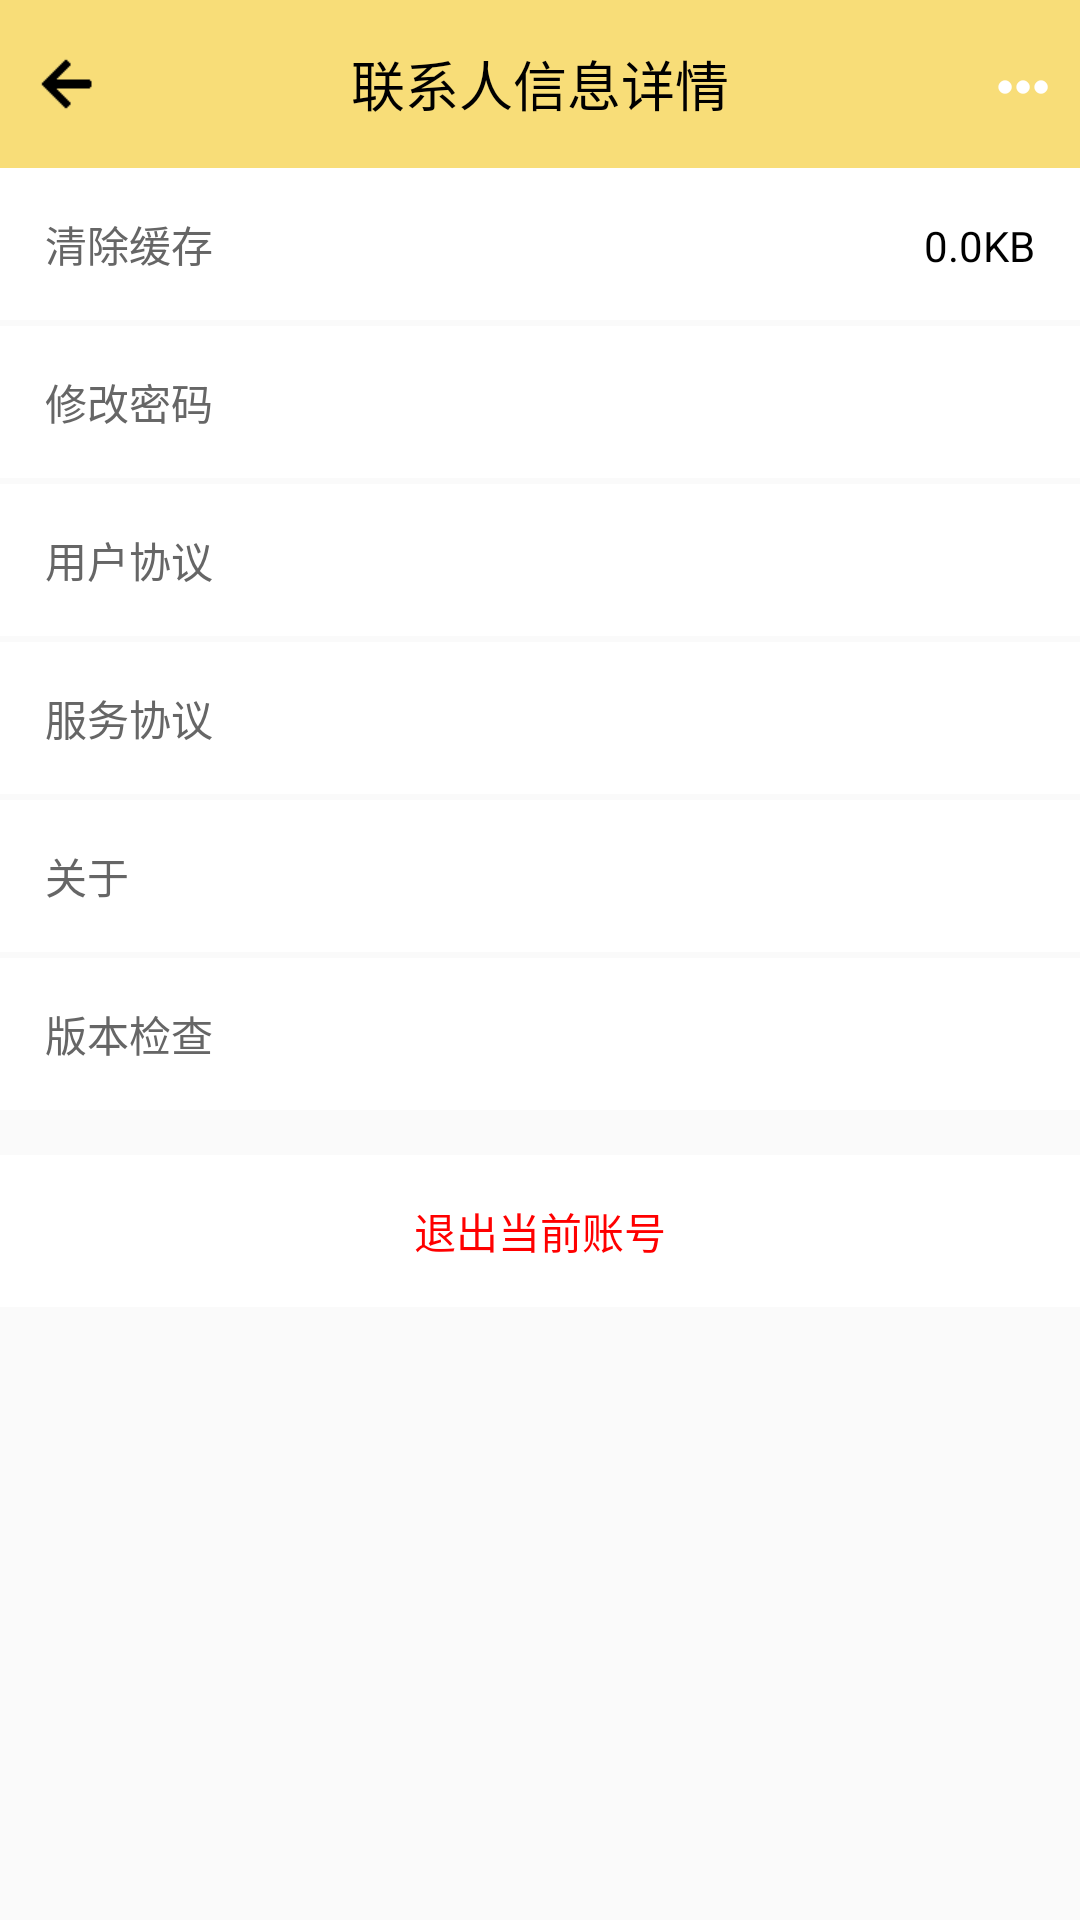

Screen size 1080*1920. Icon name, then its box in pixels as {"left": x1, "top": y1, "right": x2, "bottom": y2}:
back: {"left": 41, "top": 59, "right": 92, "bottom": 109}
